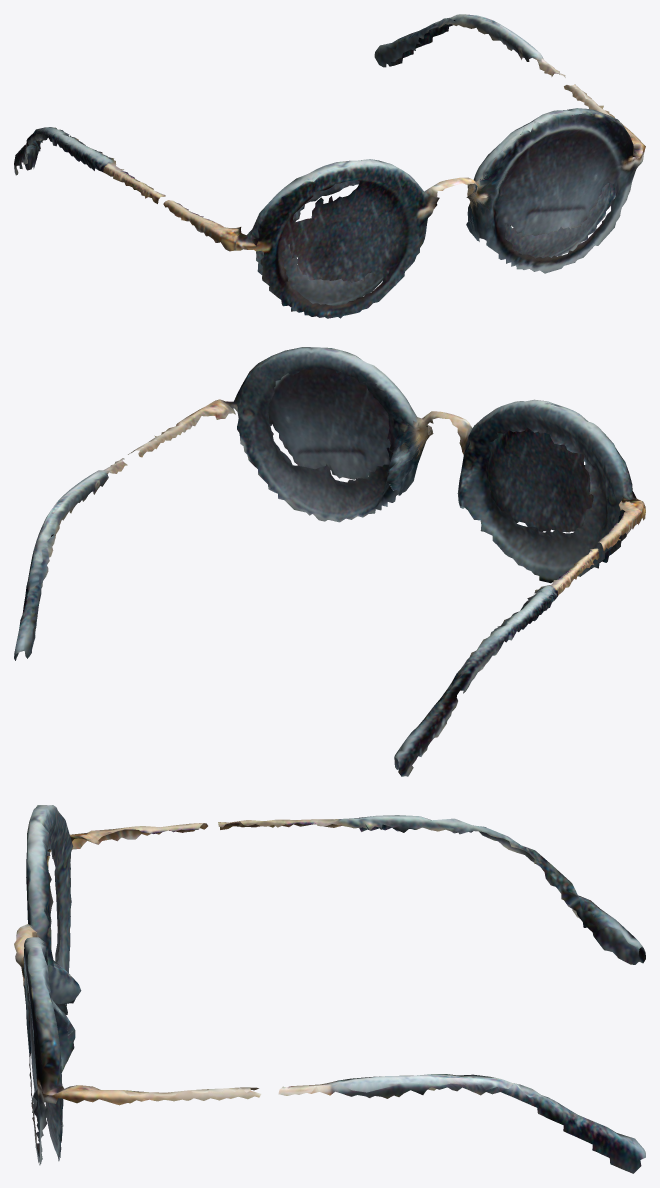
The model's file is scan_align.obj.
3 views of the same model, one above another, from view 1: azimuth 30°, elevation 25°; view 2: azimuth 150°, elevation 25°; view 3: azimuth 270°, elevation 25° (orthographic). The views are drawn at different scales.
Bounding box in the file's own units: 0.1404 × 0.0482 × 0.1342.
1 material, 1 textured.
